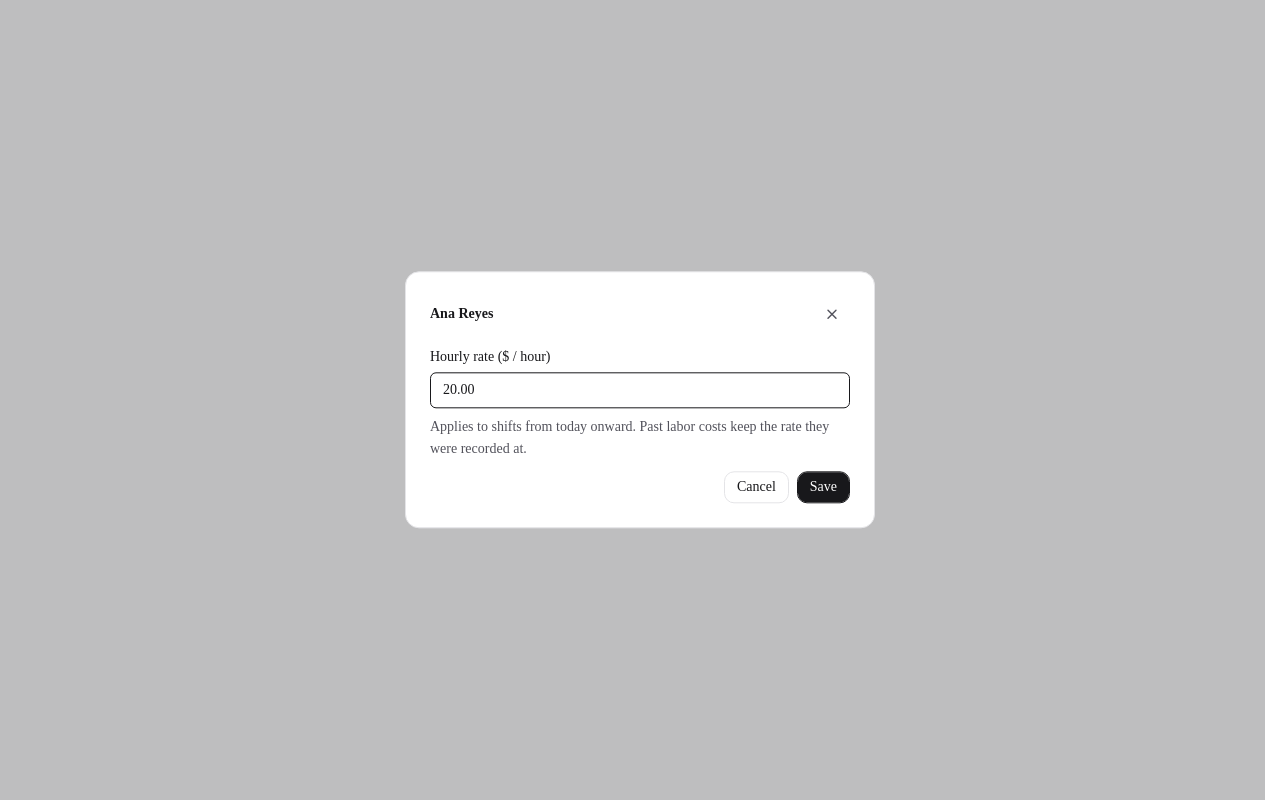
Test: the employee rate dialog › stays open and says why when the save did not land
Step 1. Replace the text in the field labelled "Hourly rate ($ / hour)" with "26.00" → (640, 390), box 430,372 -> 850,408
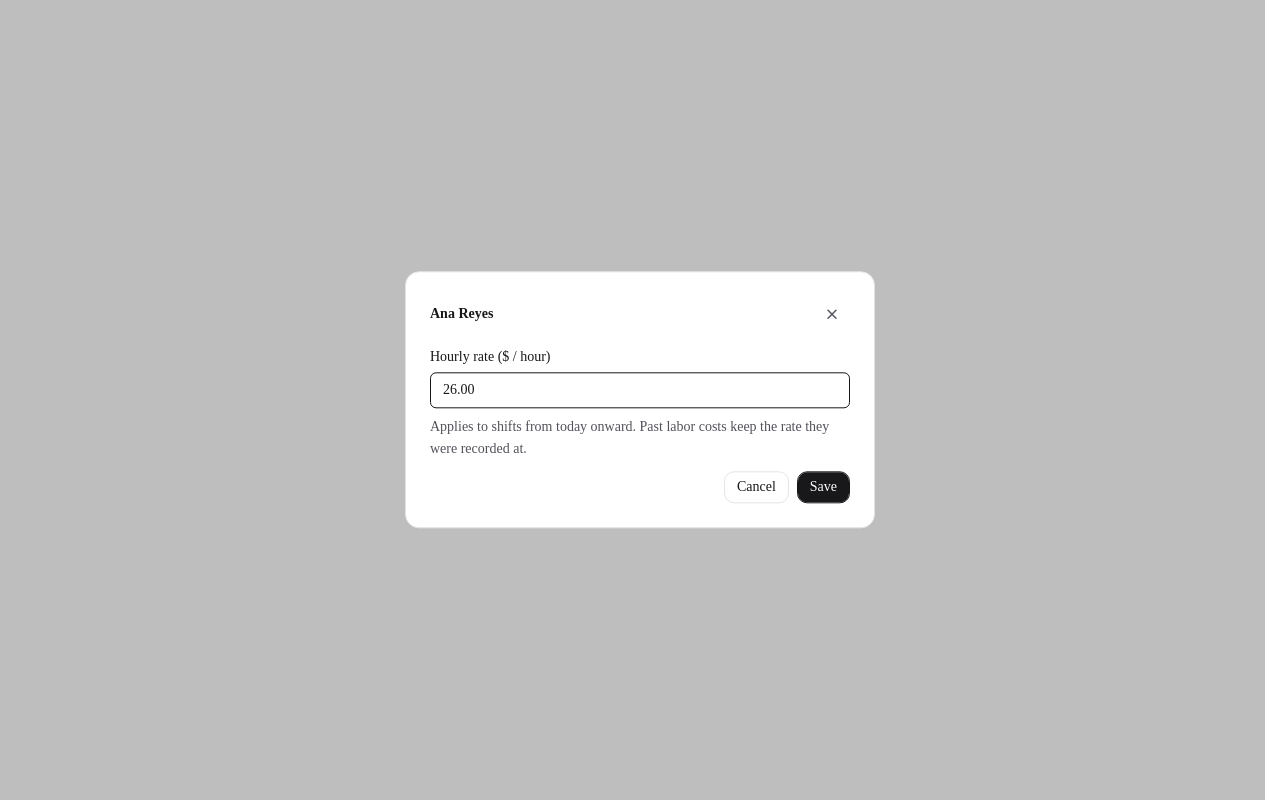
Step 2. Click the button "Save" → (823, 488), box 797,472 -> 850,504
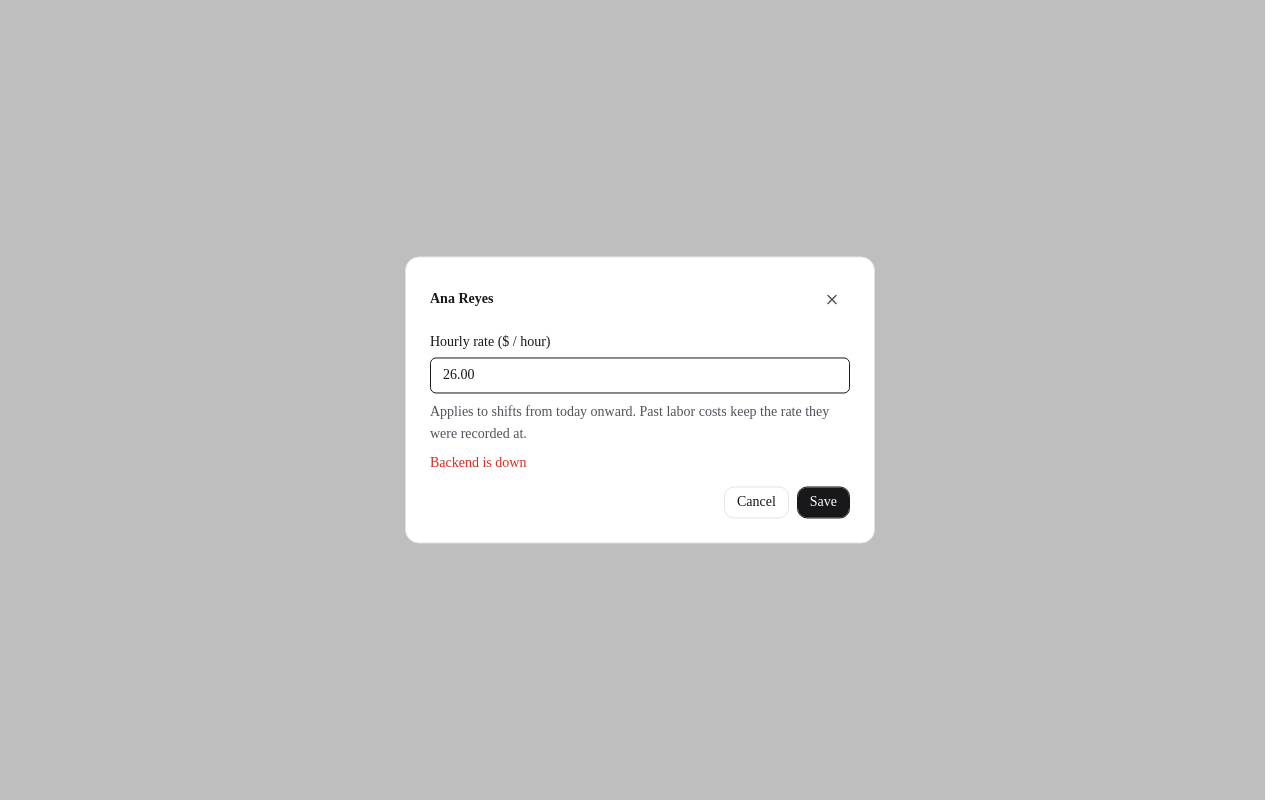
Expected: the message reads "Backend is down", 430,456 -> 526,471
